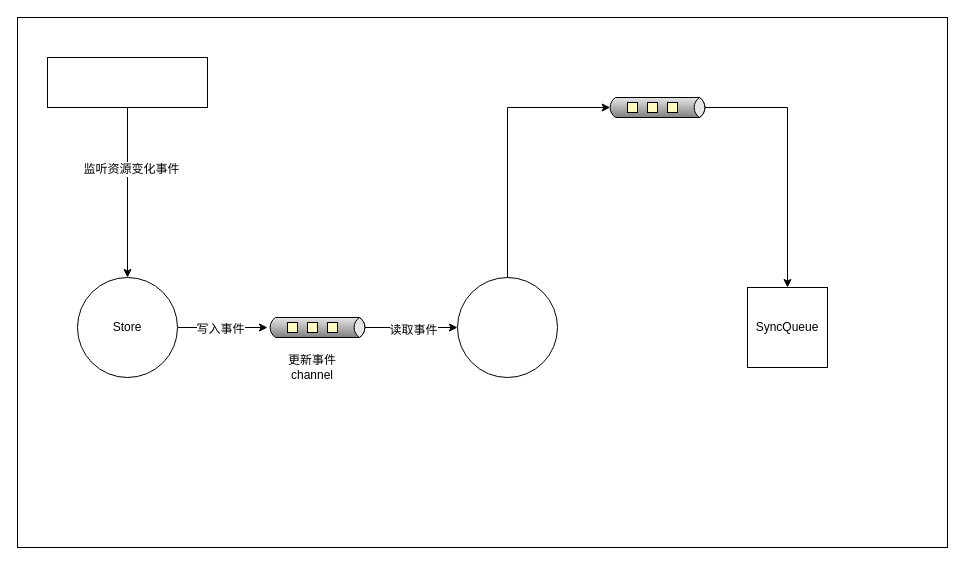
The diagram is 965 pixels wide and 565 high, and some of its shapes have lost their labels. The shapes that lost their labels are listed below. From the top down, each one's centre as x and y in pixels, then its label:
At point (127, 82): "Kubernetes APIServer".
At point (507, 327): "IngressController".
